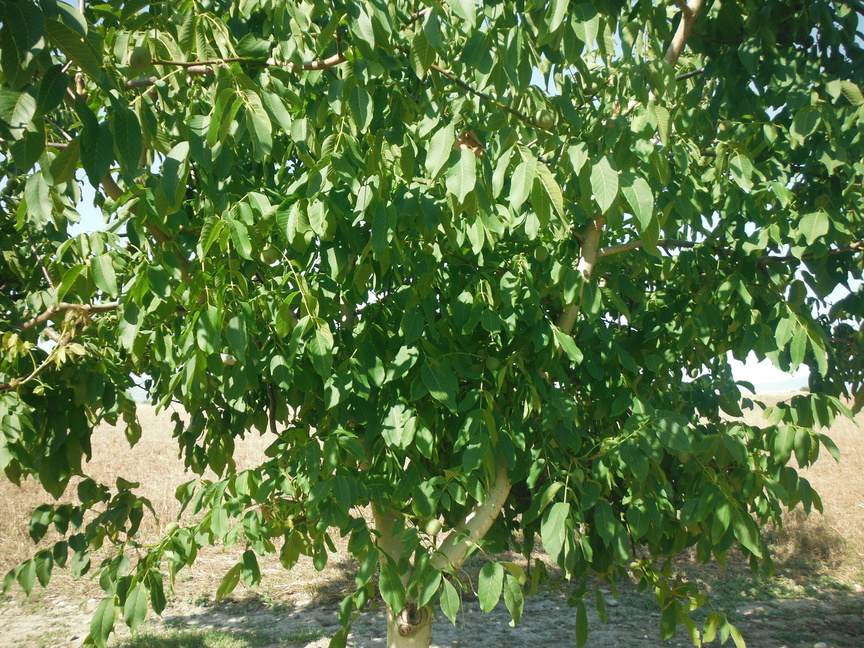walnut: (123, 43, 158, 74), (530, 106, 557, 132), (258, 246, 281, 268), (423, 516, 445, 539), (579, 78, 601, 99), (532, 243, 552, 264), (569, 466, 588, 487), (163, 517, 182, 538), (274, 453, 295, 471), (221, 303, 238, 325), (716, 117, 736, 135), (676, 446, 693, 467), (5, 172, 24, 190), (484, 354, 504, 371), (421, 237, 437, 257), (683, 344, 698, 364), (631, 566, 647, 583), (245, 166, 261, 182), (656, 378, 671, 395), (86, 323, 101, 339), (0, 185, 16, 199), (407, 238, 420, 255), (474, 346, 490, 359), (686, 365, 700, 379), (734, 428, 748, 442), (581, 394, 593, 409), (469, 362, 483, 374), (627, 559, 639, 572), (79, 323, 90, 336)
